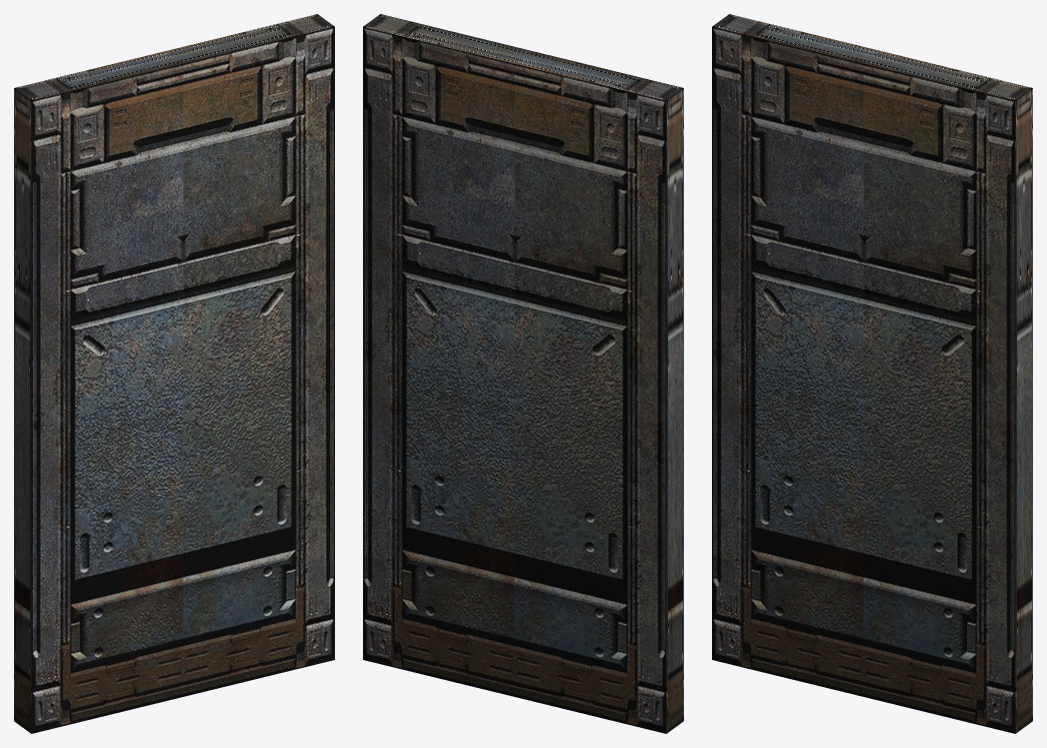
Rendered from helf_wall_peice.FBX.
3 views of the same model, side by side, from view 1: azimuth 30°, elevation 25°; view 2: azimuth 150°, elevation 25°; view 3: azimuth 330°, elevation 25° (orthographic).
Visible parts, largest first — view 1: half_wall_peice; view 2: half_wall_peice; view 3: half_wall_peice.
Boxes of the visible parts, left/top/right/bottom form: half_wall_peice: left=14, top=14, right=334, bottom=733; half_wall_peice: left=363, top=14, right=683, bottom=733; half_wall_peice: left=712, top=14, right=1032, bottom=733.
Bounding box in the file's own units: 201 × 20 × 400.
Materials: 1 (1 with a texture image).
